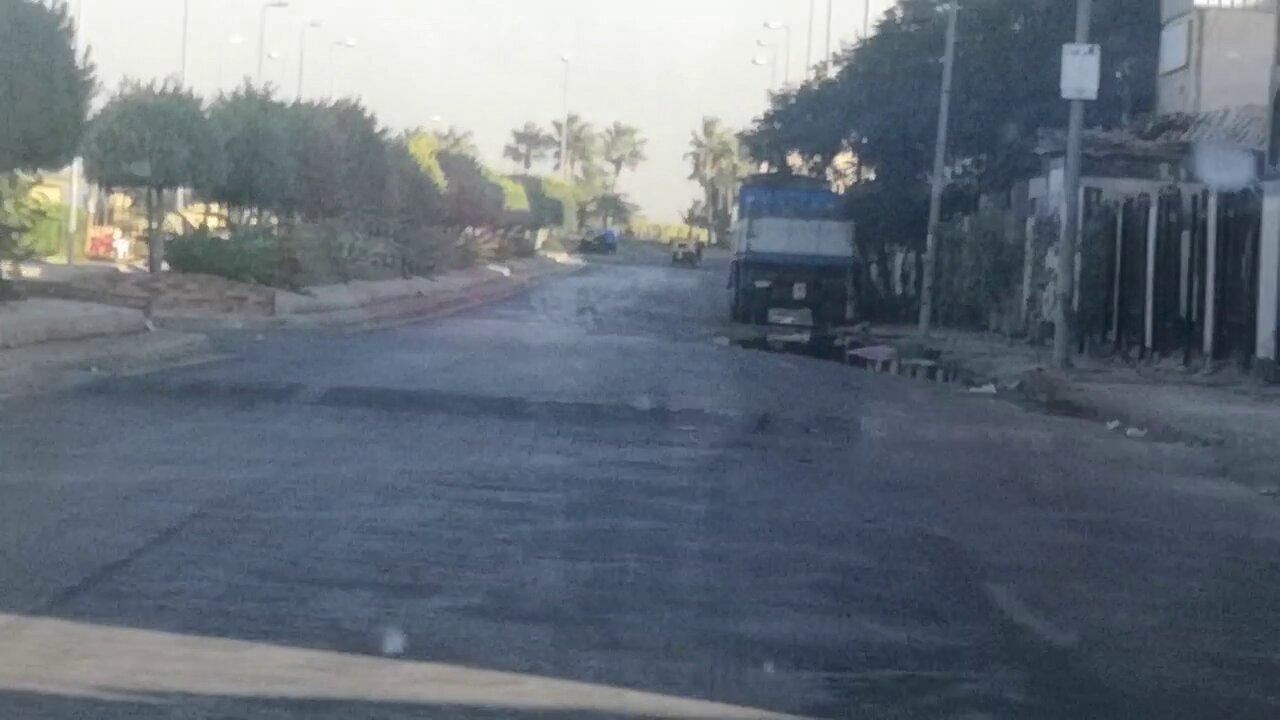Bump: (102, 368, 1167, 465)
